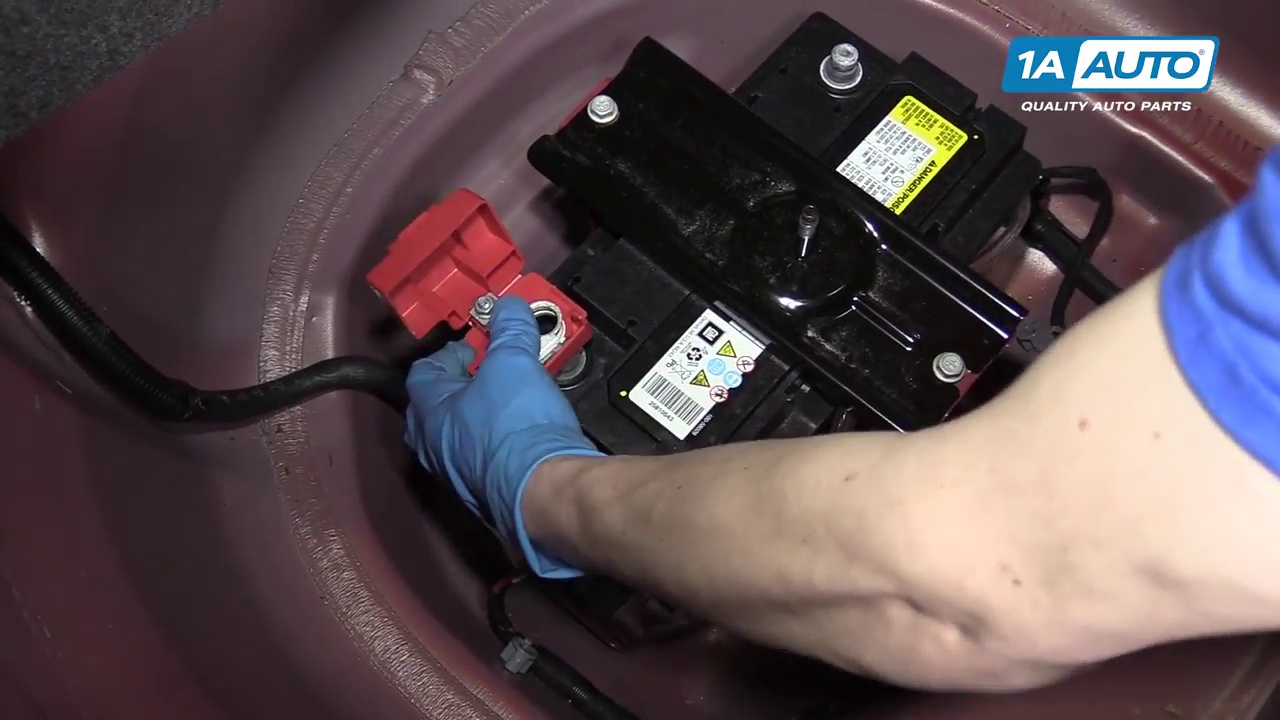battery: (451, 7, 1030, 483)
neg_disconnected: (789, 20, 890, 120)
pos_touched: (387, 200, 610, 543)
